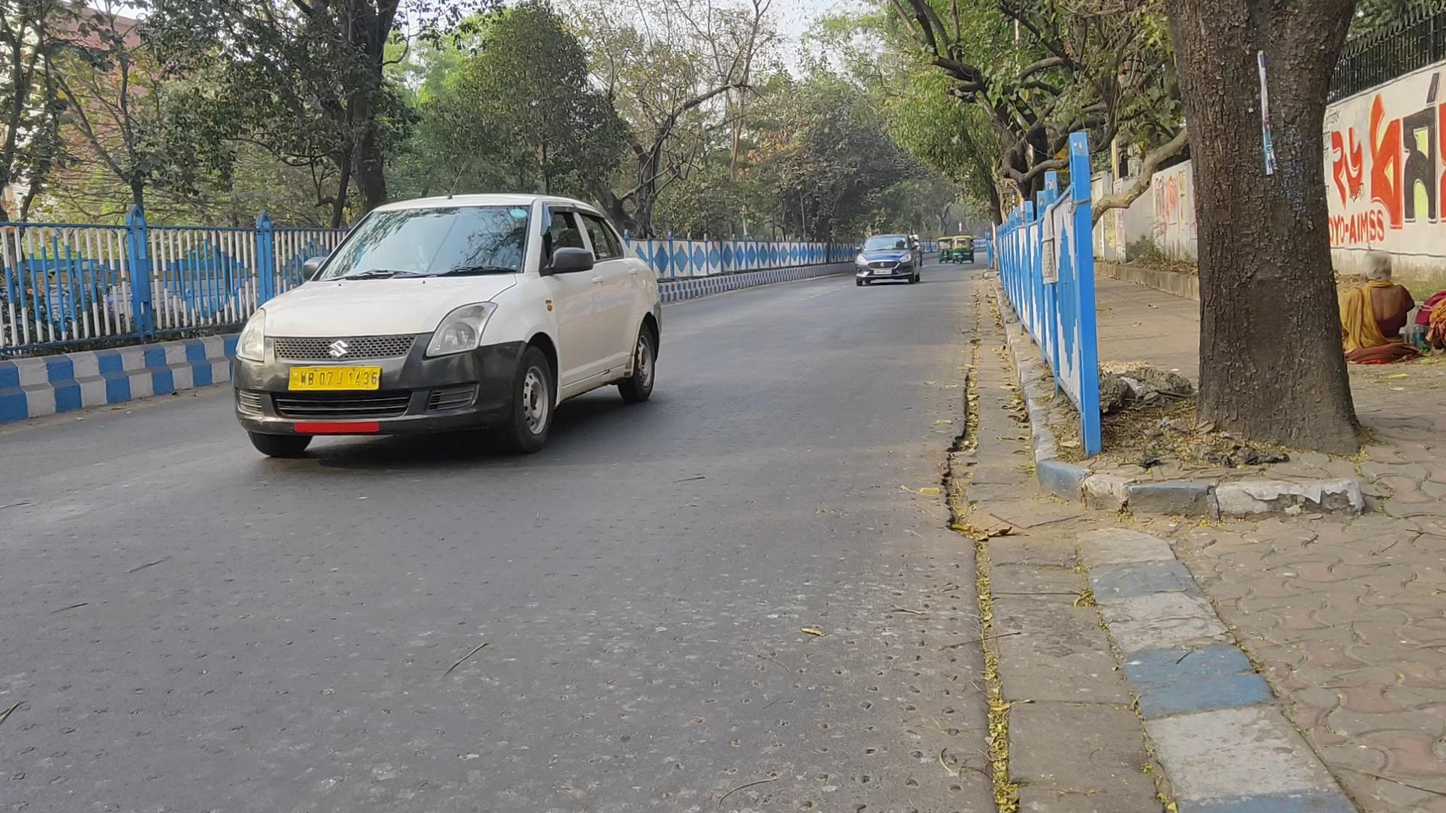Auto: (951, 235, 975, 264), (937, 237, 954, 264)
car: (231, 191, 663, 458), (853, 233, 922, 283)
